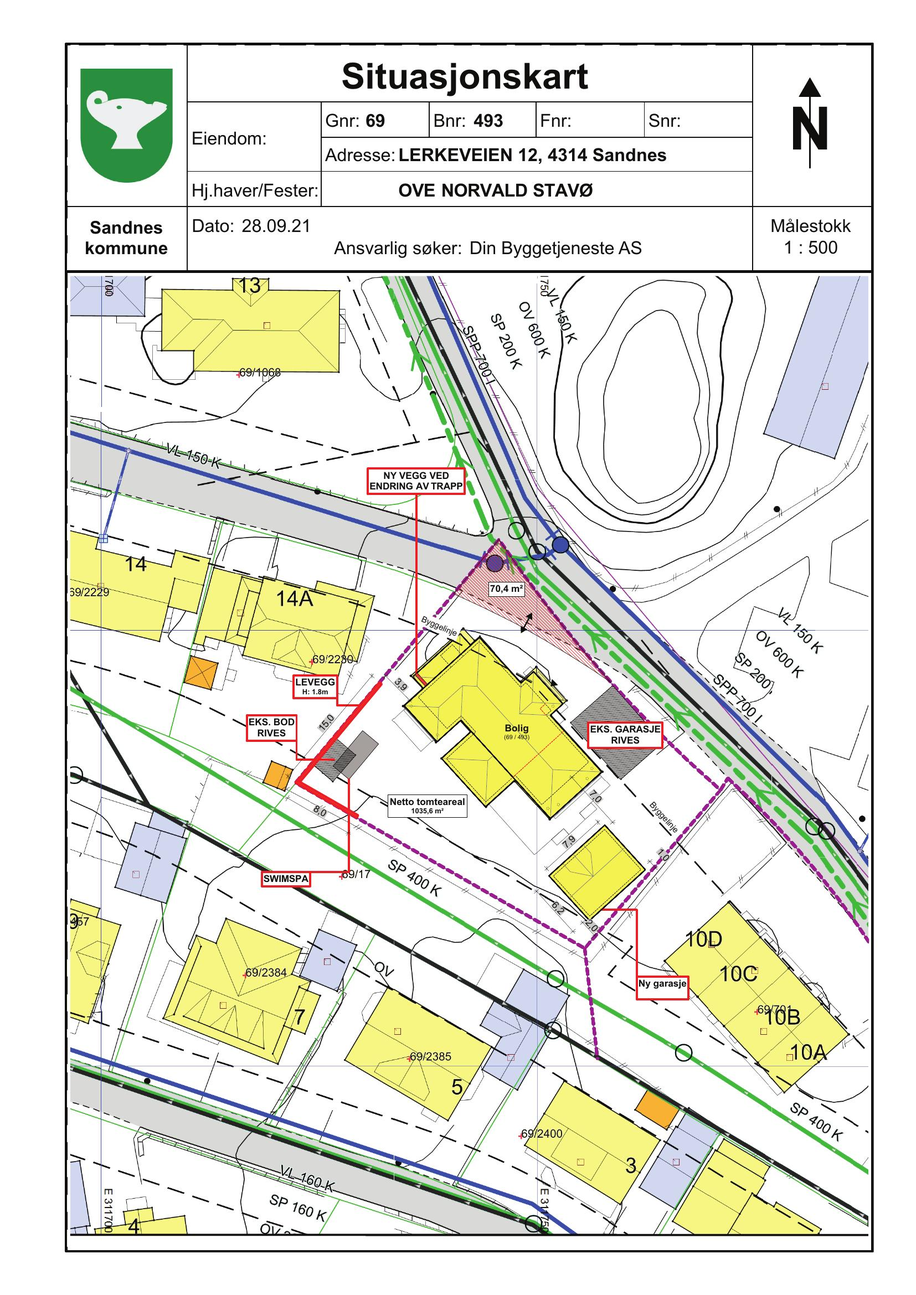situasjonskart: (64, 269, 872, 1236)
